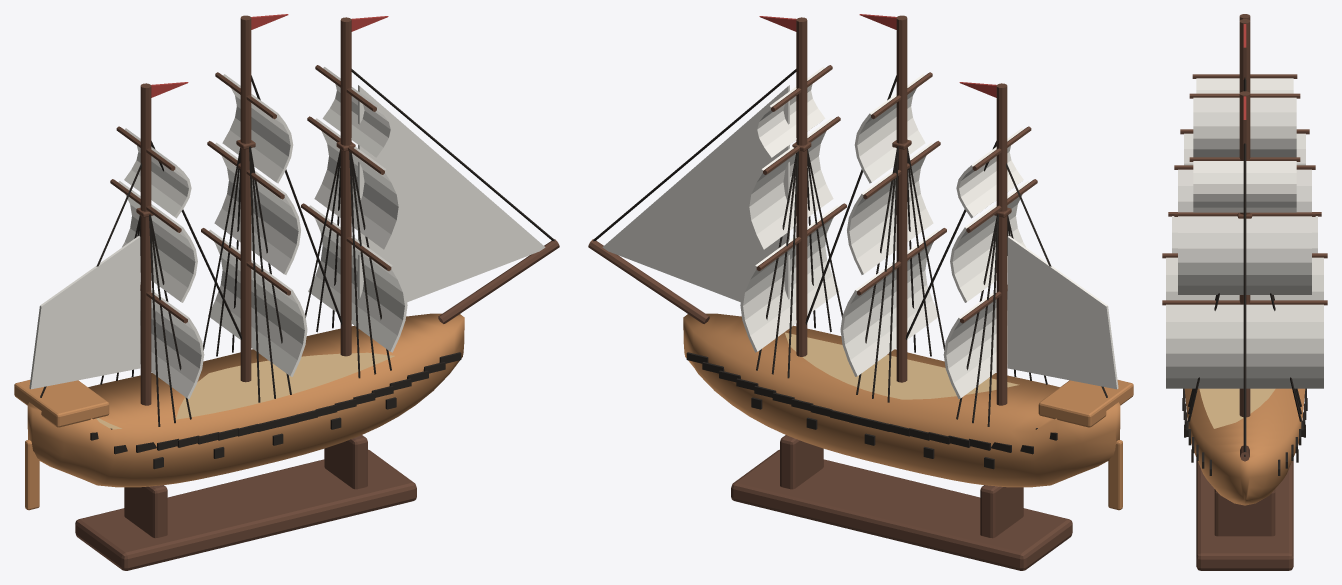
Rendered from hh_cat_model_ship.glb.
The picture shows the model from 3 angles, left to right: view 1: azimuth 30°, elevation 25°; view 2: azimuth 150°, elevation 25°; view 3: azimuth 270°, elevation 25°; orthographic projection. The views are drawn at different scales.
Visible parts, largest first — view 1: hull, stand_base, jib, spanker, deck, sail.003, sail.006, sail.004, sail.007, mast.001, mast.002, mast (+11 smaller); view 2: hull, stand_base, jib, spanker, sail.003, sail.006, deck, sail.004, sail.007, mast.001, mast.002, mast (+11 smaller); view 3: sail.006, sail.007, hull, sail.005, stand_base, sail.008, stand_post.001, sail.003, deck, sail.002, sail.004, stay (+9 smaller).
Boxes of the visible parts, left/top/right/bottom form: hull: left=27, top=313, right=464, bottom=487; stand_base: left=75, top=449, right=416, bottom=570; jib: left=358, top=85, right=545, bottom=302; spanker: left=29, top=236, right=140, bottom=389; deck: left=96, top=352, right=394, bottom=429; sail.003: left=208, top=229, right=307, bottom=376; sail.006: left=308, top=205, right=407, bottom=352; sail.004: left=214, top=142, right=300, bottom=274; sail.007: left=314, top=118, right=401, bottom=250; mast.001: left=240, top=15, right=251, bottom=382; mast.002: left=340, top=17, right=351, bottom=356; mast: left=140, top=83, right=151, bottom=405; hull: left=683, top=313, right=1120, bottom=487; stand_base: left=731, top=449, right=1072, bottom=570; jib: left=602, top=85, right=789, bottom=302; spanker: left=1007, top=236, right=1118, bottom=389; sail.003: left=840, top=229, right=939, bottom=376; sail.006: left=740, top=205, right=839, bottom=352; deck: left=784, top=332, right=1019, bottom=399; sail.004: left=847, top=142, right=933, bottom=274; sail.007: left=746, top=118, right=833, bottom=250; mast.001: left=896, top=15, right=907, bottom=382; mast.002: left=796, top=17, right=807, bottom=356; mast: left=996, top=83, right=1007, bottom=405; sail.006: left=1166, top=304, right=1323, bottom=388; sail.007: left=1178, top=216, right=1311, bottom=294; hull: left=1184, top=388, right=1305, bottom=505; sail.005: left=1193, top=97, right=1296, bottom=157; stand_base: left=1196, top=461, right=1293, bottom=570; sail.008: left=1193, top=161, right=1296, bottom=212; stand_post.001: left=1214, top=489, right=1275, bottom=536; sail.003: left=1166, top=257, right=1323, bottom=300; deck: left=1199, top=388, right=1275, bottom=428; sail.002: left=1196, top=78, right=1293, bottom=93; sail.004: left=1178, top=169, right=1311, bottom=212; stay: left=1243, top=143, right=1246, bottom=456.
Bounding box in the file's own units: 0.5 × 0.45 × 0.14.
